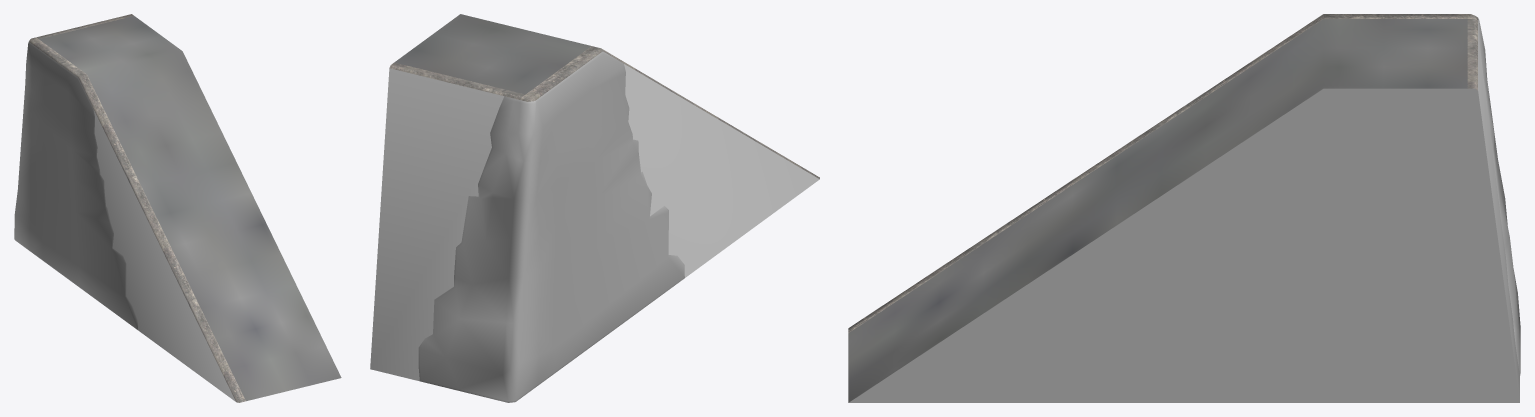
File: JpHouseJ_StoneWall_slope02r.fbx
The picture shows the model from 3 angles, left to right: view 1: azimuth 30°, elevation 25°; view 2: azimuth 150°, elevation 25°; view 3: azimuth 270°, elevation 25°; orthographic projection. The views are drawn at different scales.
Visible parts, largest first — view 1: JpHouseJ_StoneWall_slope02r; view 2: JpHouseJ_StoneWall_slope02r; view 3: JpHouseJ_StoneWall_slope02r.
Part boxes in pixels (box(x1,y1,x2,y2)): JpHouseJ_StoneWall_slope02r: box(14, 14, 341, 402); JpHouseJ_StoneWall_slope02r: box(370, 14, 819, 402); JpHouseJ_StoneWall_slope02r: box(848, 14, 1520, 402).
Bounding box in the file's own units: 2.14 × 4.08 × 7.91.
